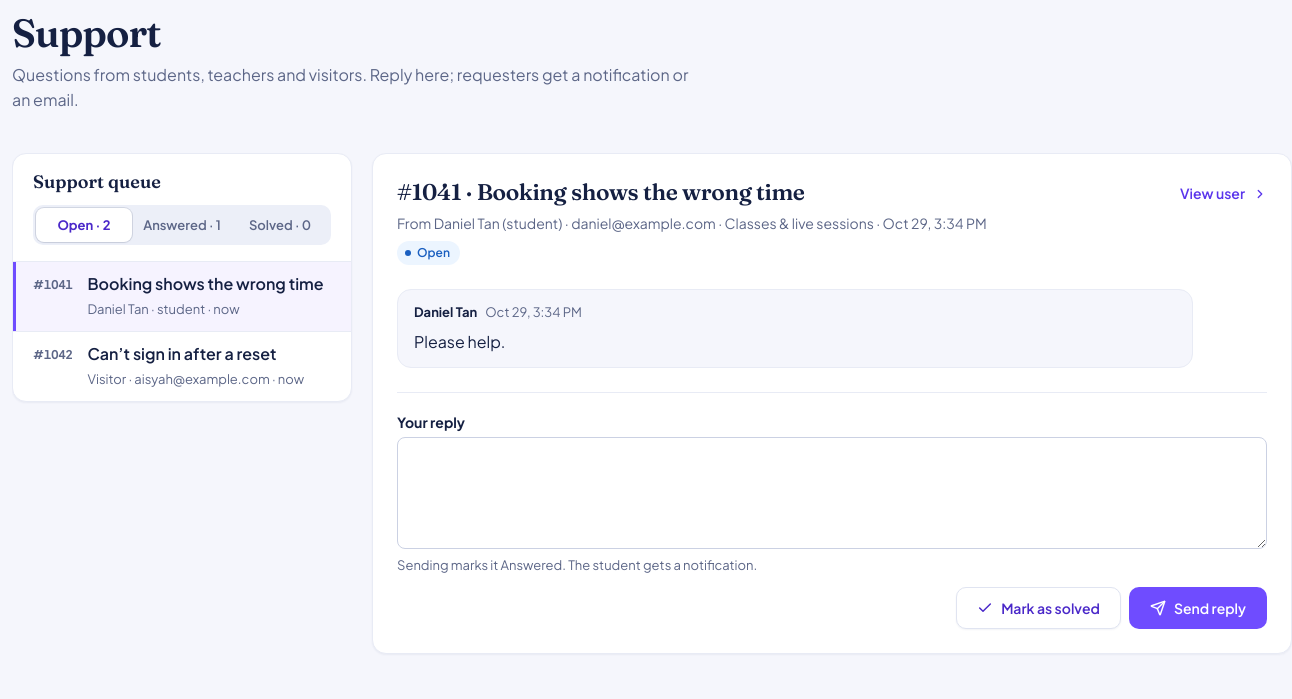
it: AdminSupportPage › reports a reply that could not be sent and keeps the text
Type "Following up" into the text box with test id "admin-support-reply" showing "Your reply" at [832, 493], box [397,437,1267,549]
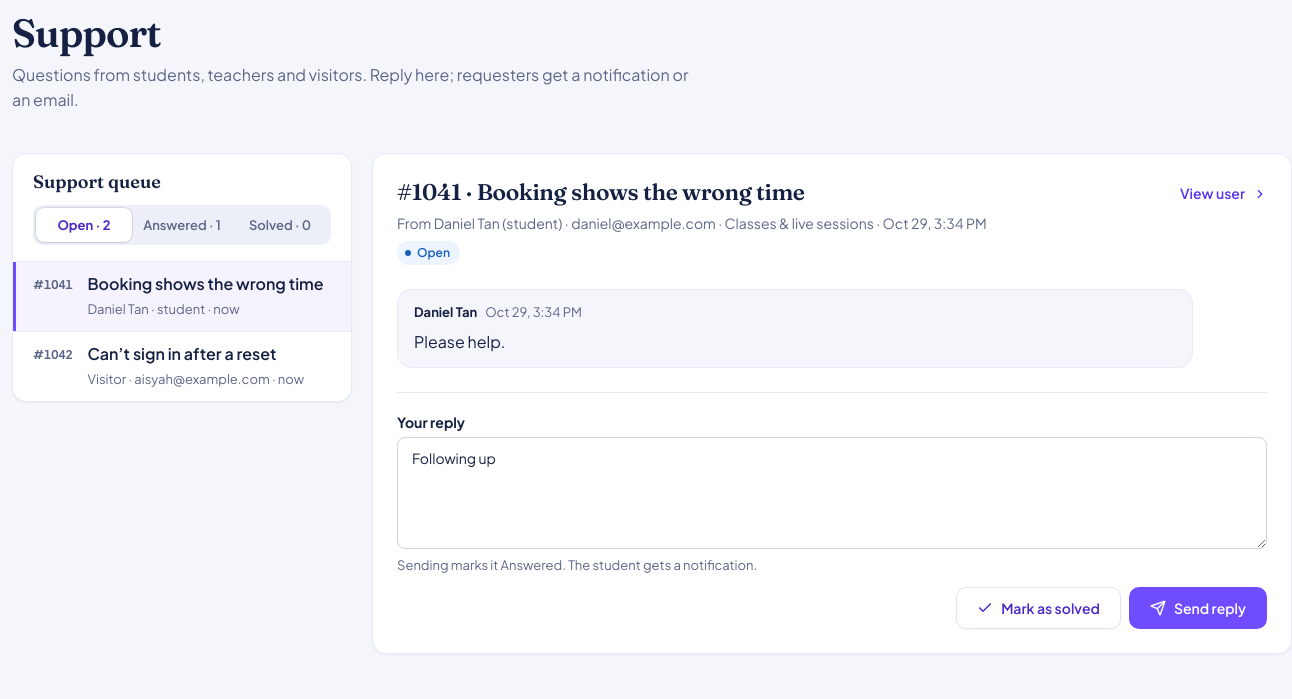
Submit the form with class "admin-support-reply" that starts with "Your reply", box [397,392,1267,629]
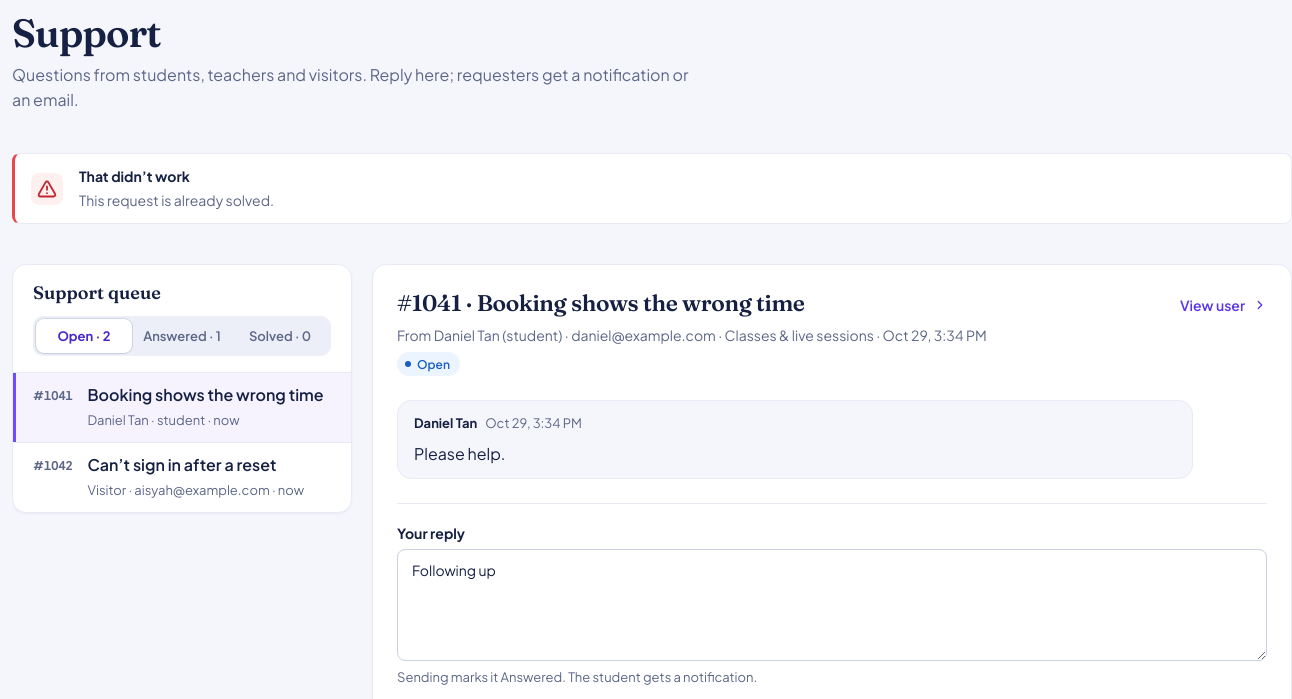
Expected: the text "This request is already solved." is shown, [79,191,274,209]
